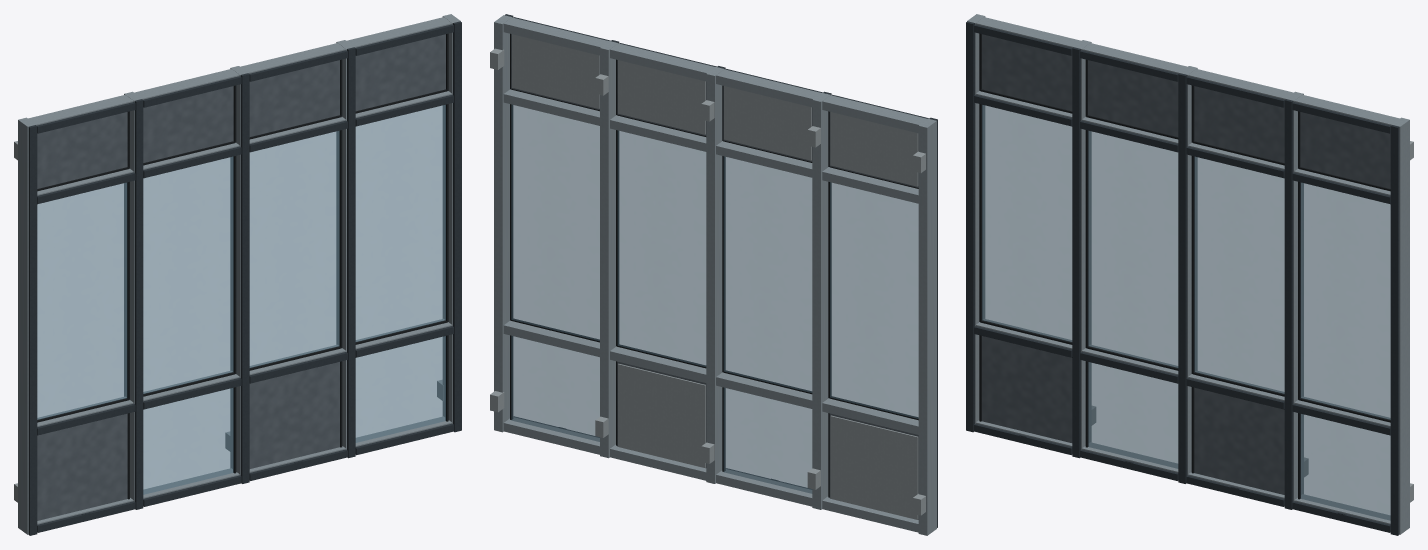
File: PROJECT_Z_Office_Tower_02_Alternate_4m_Facade_Runtime.glb
3 views of the same model, side by side, from view 1: azimuth 30°, elevation 25°; view 2: azimuth 150°, elevation 25°; view 3: azimuth 330°, elevation 25° (orthographic).
Visible parts, largest first — view 1: SM_M02_Alternate_4m_Facade__BATCH_REMOVABLE_CAP_M_GraphitePo, SM_M02_Alternate_4m_Facade__GLASS_Panel_L02_B02, SM_M02_Alternate_4m_Facade__GLASS_Panel_L02_B01, SM_M02_Alternate_4m_Facade__GLASS_Panel_L02_B04, SM_M02_Alternate_4m_Facade__GLASS_Panel_L02_B03, SM_M02_Alternate_4m_Facade__BATCH_MULLION_M_SatinAnodizedAlu, SM_M02_Alternate_4m_Facade__BATCH_TRANSOM_M_SatinAnodizedAlu, SM_M02_Alternate_4m_Facade__OPAQUE_Panel_L01_B01, SM_M02_Alternate_4m_Facade__OPAQUE_Panel_L01_B03, SM_M02_Alternate_4m_Facade__GLASS_Panel_L01_B04, SM_M02_Alternate_4m_Facade__GLASS_Panel_L01_B02, SM_M02_Alternate_4m_Facade__BATCH_GASKET_M_BlackEPDMSeals (+4 smaller); view 2: SM_M02_Alternate_4m_Facade__BATCH_BACK_PAN_M_GalvanizedHVACS, SM_M02_Alternate_4m_Facade__BATCH_MULLION_M_SatinAnodizedAlu, SM_M02_Alternate_4m_Facade__BATCH_TRANSOM_M_SatinAnodizedAlu, SM_M02_Alternate_4m_Facade__GLASS_Panel_L02_B02, SM_M02_Alternate_4m_Facade__GLASS_Panel_L02_B03, SM_M02_Alternate_4m_Facade__GLASS_Panel_L02_B04, SM_M02_Alternate_4m_Facade__GLASS_Panel_L02_B01, SM_M02_Alternate_4m_Facade__GLASS_Panel_L01_B02, SM_M02_Alternate_4m_Facade__GLASS_Panel_L01_B04, SM_M02_Alternate_4m_Facade__BATCH_GASKET_M_BlackEPDMSeals, SM_M02_Alternate_4m_Facade__BATCH_CONNECTION_BRACKET_M_Galva, SM_M02_Alternate_4m_Facade__BATCH_REMOVABLE_CAP_M_GraphitePo; view 3: SM_M02_Alternate_4m_Facade__BATCH_REMOVABLE_CAP_M_GraphitePo, SM_M02_Alternate_4m_Facade__GLASS_Panel_L02_B03, SM_M02_Alternate_4m_Facade__GLASS_Panel_L02_B04, SM_M02_Alternate_4m_Facade__GLASS_Panel_L02_B01, SM_M02_Alternate_4m_Facade__GLASS_Panel_L02_B02, SM_M02_Alternate_4m_Facade__BATCH_MULLION_M_SatinAnodizedAlu, SM_M02_Alternate_4m_Facade__BATCH_TRANSOM_M_SatinAnodizedAlu, SM_M02_Alternate_4m_Facade__OPAQUE_Panel_L01_B03, SM_M02_Alternate_4m_Facade__OPAQUE_Panel_L01_B01, SM_M02_Alternate_4m_Facade__GLASS_Panel_L01_B02, SM_M02_Alternate_4m_Facade__GLASS_Panel_L01_B04, SM_M02_Alternate_4m_Facade__BATCH_GASKET_M_BlackEPDMSeals (+4 smaller).
Part boxes in pixels (left/top/right/bottom): SM_M02_Alternate_4m_Facade__BATCH_REMOVABLE_CAP_M_GraphitePo: left=28, top=21, right=461, bottom=535; SM_M02_Alternate_4m_Facade__GLASS_Panel_L02_B02: left=143, top=156, right=233, bottom=393; SM_M02_Alternate_4m_Facade__GLASS_Panel_L02_B01: left=37, top=182, right=127, bottom=419; SM_M02_Alternate_4m_Facade__GLASS_Panel_L02_B04: left=355, top=105, right=445, bottom=341; SM_M02_Alternate_4m_Facade__GLASS_Panel_L02_B03: left=249, top=131, right=339, bottom=367; SM_M02_Alternate_4m_Facade__BATCH_MULLION_M_SatinAnodizedAlu: left=18, top=14, right=460, bottom=534; SM_M02_Alternate_4m_Facade__BATCH_TRANSOM_M_SatinAnodizedAlu: left=28, top=17, right=451, bottom=524; SM_M02_Alternate_4m_Facade__OPAQUE_Panel_L01_B01: left=37, top=413, right=127, bottom=520; SM_M02_Alternate_4m_Facade__OPAQUE_Panel_L01_B03: left=249, top=362, right=339, bottom=468; SM_M02_Alternate_4m_Facade__GLASS_Panel_L01_B04: left=355, top=336, right=445, bottom=442; SM_M02_Alternate_4m_Facade__GLASS_Panel_L01_B02: left=143, top=388, right=233, bottom=494; SM_M02_Alternate_4m_Facade__BATCH_GASKET_M_BlackEPDMSeals: left=37, top=33, right=448, bottom=499; SM_M02_Alternate_4m_Facade__BATCH_BACK_PAN_M_GalvanizedHVACS: left=512, top=34, right=918, bottom=519; SM_M02_Alternate_4m_Facade__BATCH_MULLION_M_SatinAnodizedAlu: left=494, top=15, right=936, bottom=535; SM_M02_Alternate_4m_Facade__BATCH_TRANSOM_M_SatinAnodizedAlu: left=503, top=17, right=927, bottom=532; SM_M02_Alternate_4m_Facade__GLASS_Panel_L02_B02: left=723, top=156, right=812, bottom=392; SM_M02_Alternate_4m_Facade__GLASS_Panel_L02_B03: left=617, top=130, right=706, bottom=366; SM_M02_Alternate_4m_Facade__GLASS_Panel_L02_B04: left=511, top=104, right=599, bottom=341; SM_M02_Alternate_4m_Facade__GLASS_Panel_L02_B01: left=830, top=182, right=918, bottom=418; SM_M02_Alternate_4m_Facade__GLASS_Panel_L01_B02: left=723, top=387, right=812, bottom=493; SM_M02_Alternate_4m_Facade__GLASS_Panel_L01_B04: left=511, top=336, right=599, bottom=441; SM_M02_Alternate_4m_Facade__BATCH_GASKET_M_BlackEPDMSeals: left=510, top=33, right=918, bottom=497; SM_M02_Alternate_4m_Facade__BATCH_CONNECTION_BRACKET_M_Galva: left=490, top=48, right=925, bottom=515; SM_M02_Alternate_4m_Facade__BATCH_REMOVABLE_CAP_M_GraphitePo: left=505, top=14, right=937, bottom=527; SM_M02_Alternate_4m_Facade__BATCH_REMOVABLE_CAP_M_GraphitePo: left=966, top=21, right=1399, bottom=535; SM_M02_Alternate_4m_Facade__GLASS_Panel_L02_B03: left=1194, top=156, right=1284, bottom=393; SM_M02_Alternate_4m_Facade__GLASS_Panel_L02_B04: left=1300, top=182, right=1390, bottom=419; SM_M02_Alternate_4m_Facade__GLASS_Panel_L02_B01: left=982, top=105, right=1072, bottom=341; SM_M02_Alternate_4m_Facade__GLASS_Panel_L02_B02: left=1088, top=131, right=1178, bottom=367; SM_M02_Alternate_4m_Facade__BATCH_MULLION_M_SatinAnodizedAlu: left=967, top=14, right=1409, bottom=534; SM_M02_Alternate_4m_Facade__BATCH_TRANSOM_M_SatinAnodizedAlu: left=976, top=17, right=1399, bottom=524; SM_M02_Alternate_4m_Facade__OPAQUE_Panel_L01_B03: left=1194, top=387, right=1284, bottom=494; SM_M02_Alternate_4m_Facade__OPAQUE_Panel_L01_B01: left=982, top=336, right=1072, bottom=442; SM_M02_Alternate_4m_Facade__GLASS_Panel_L01_B02: left=1088, top=362, right=1178, bottom=468; SM_M02_Alternate_4m_Facade__GLASS_Panel_L01_B04: left=1300, top=414, right=1390, bottom=520; SM_M02_Alternate_4m_Facade__BATCH_GASKET_M_BlackEPDMSeals: left=979, top=33, right=1390, bottom=499.
Size of the model in its own units: 4 by 3.6 by 0.264.
6 materials, 6 textured.
